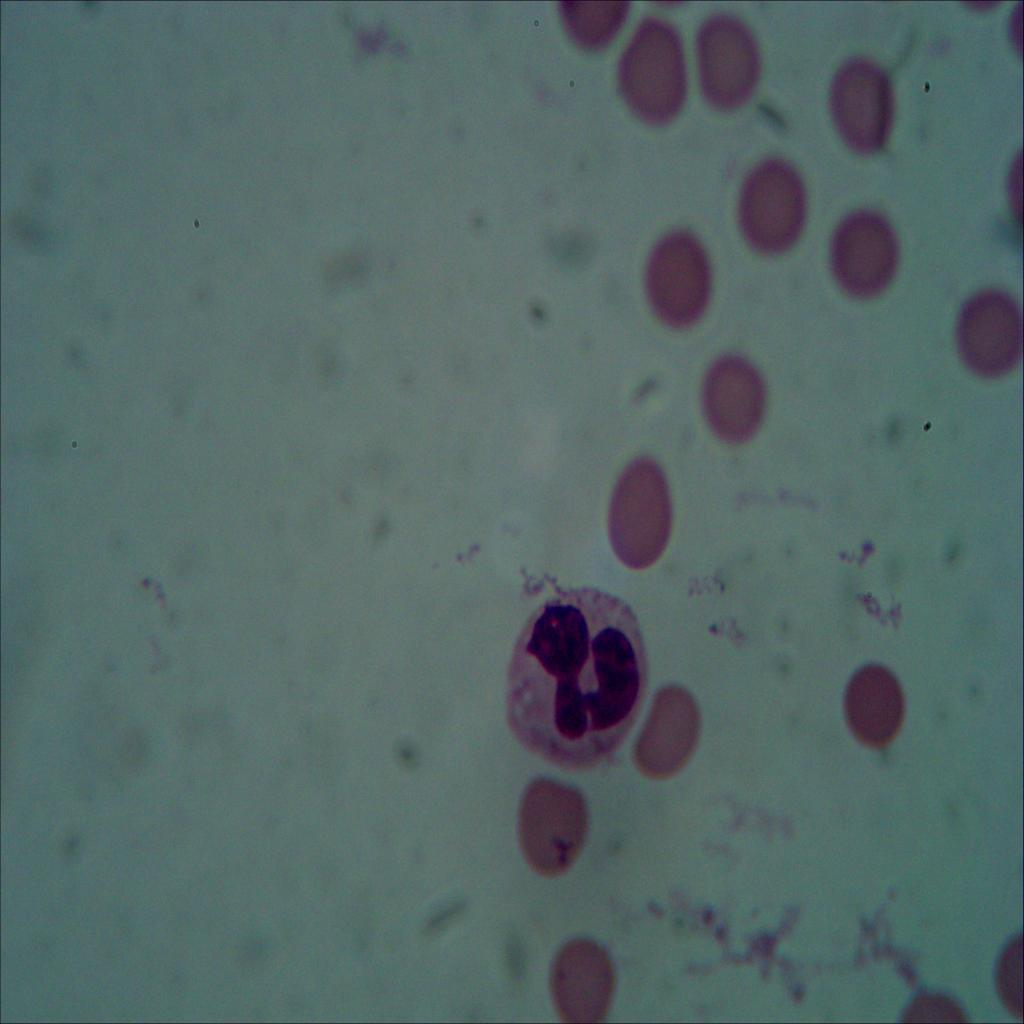Eritrosit: (725, 149, 812, 276), (503, 768, 595, 888), (598, 449, 683, 569), (686, 11, 780, 117), (636, 225, 717, 338), (816, 200, 904, 304), (822, 41, 894, 162), (605, 20, 684, 128), (838, 647, 912, 760), (542, 922, 622, 1024), (693, 352, 769, 457), (945, 286, 1024, 384), (638, 680, 702, 793)
Neutrofil: (501, 579, 654, 783)
